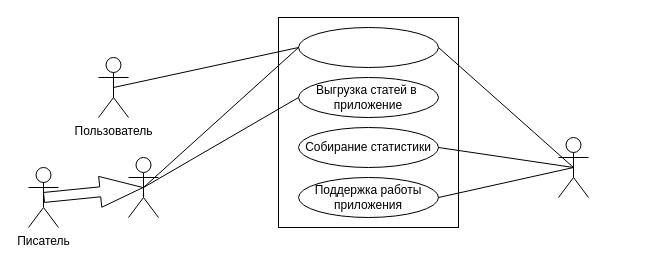
This 658x266 diagram has some shape labels left out. Here are the shapes that lost their labels. From the top down, the box of each, then its label:
(298, 26, 438, 68): Чтение статей
(128, 156, 158, 218): Редактор
(558, 136, 588, 198): Управляющий проектом
